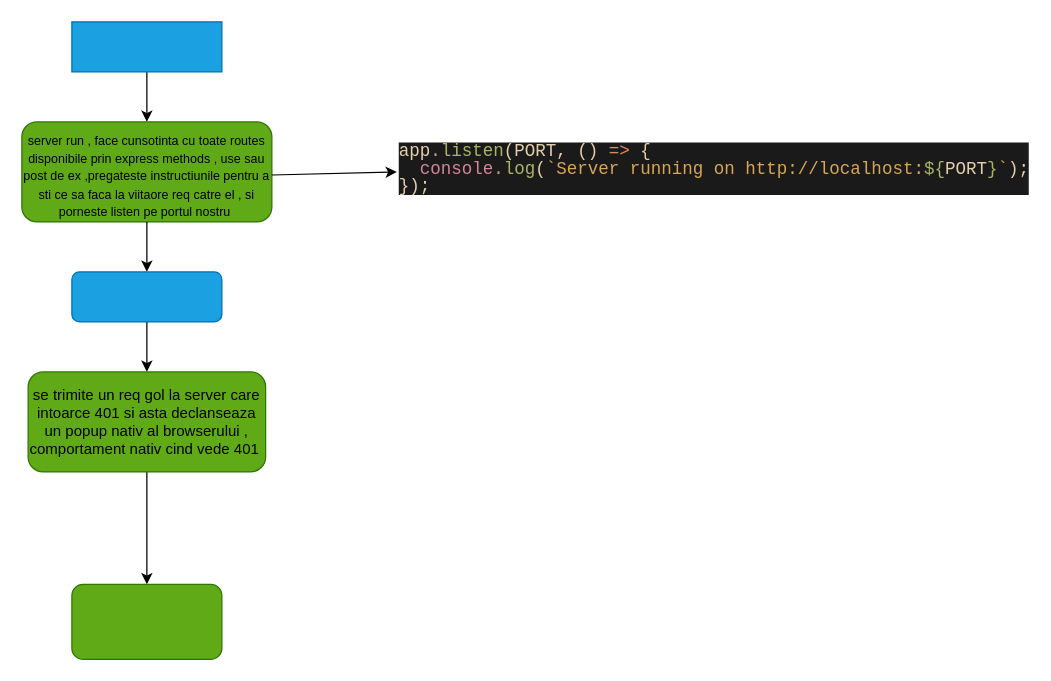
Some shapes in this 1051 by 681 pixel diagram are drawn without their labels. The shapes that lost their labels are listed below. From the top down, each one's centre as x and y in pixels, then its label:
the point at 146,46: npm start
the point at 146,296: localhost:PORT
